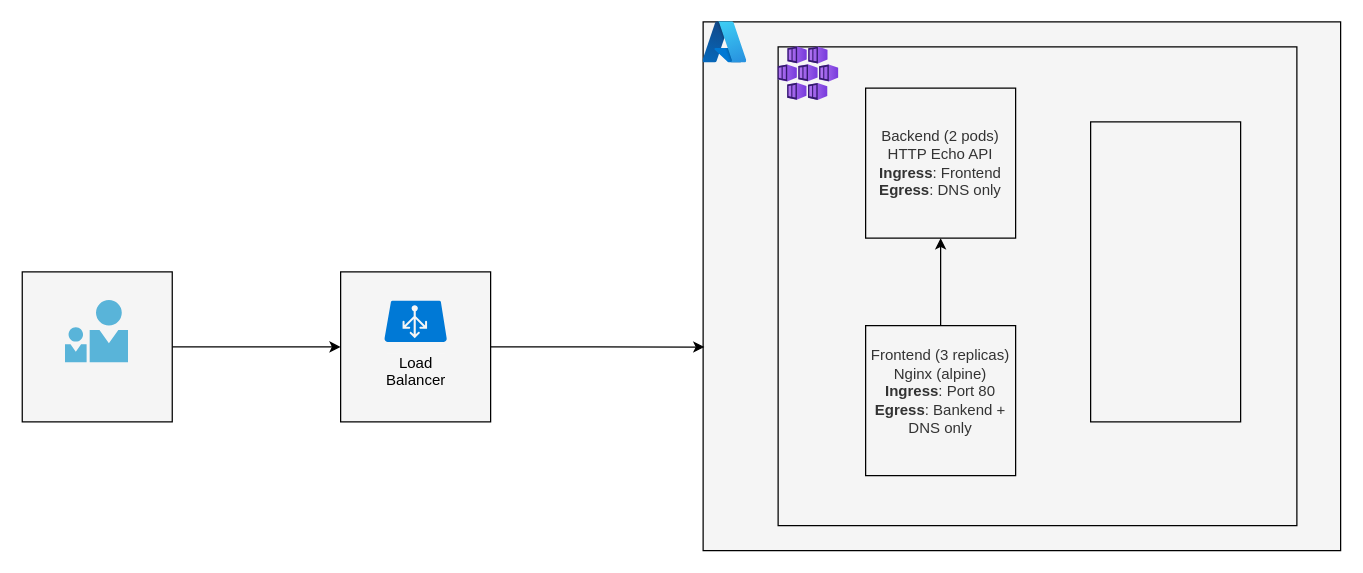
The diagram is 1363 pixels wide and 573 high, and some of its shapes have lost their labels. Here are the shapes that lost their labels. From the top down, the centre of each, then its label:
the point at 1165,271: Prometheus & Grafana (Monitoring Namespace)
the point at 96,331: Users
